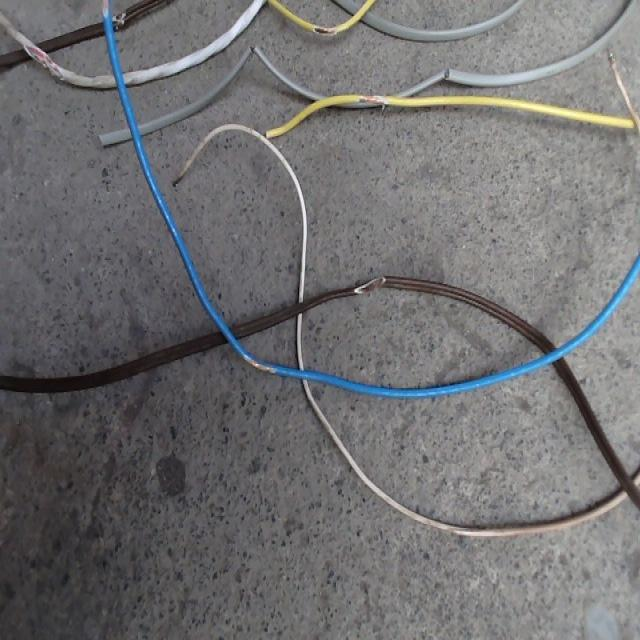-: (20, 37, 65, 83), (242, 350, 275, 374), (353, 276, 385, 295), (311, 23, 337, 36), (357, 93, 386, 104), (441, 68, 449, 79)
